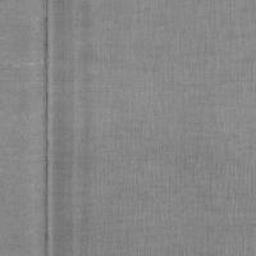Welding line: (42, 0, 51, 256)
